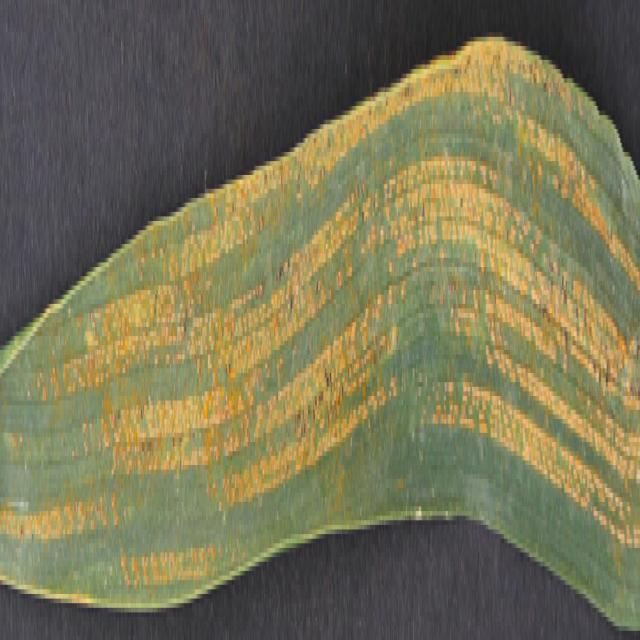leaf rust: (1, 18, 639, 590)
